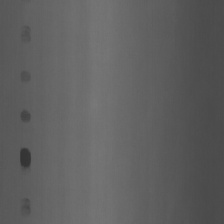oil_spot: (17, 146, 32, 168), (20, 195, 31, 221), (18, 62, 30, 82), (20, 24, 30, 40), (19, 109, 30, 123)
